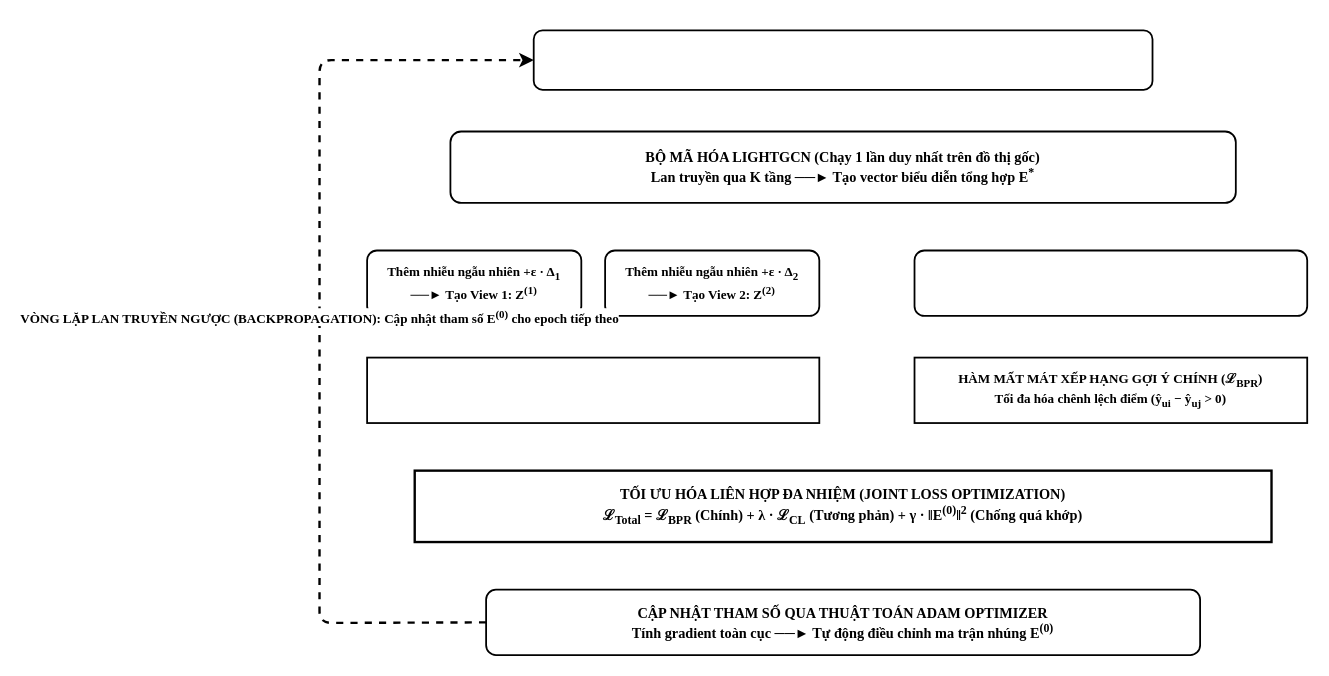
Image size: 1329x676. Some labels were removed from this diagram. Here are the shapes that lost their labels. From the top down, the box of each, then its label:
(532, 29, 1153, 90): ĐỒ THỊ TƯƠNG TÁC GỐC G = (U ∪ I, E) Ma trận nhúng khởi tạo: E (0)
(913, 249, 1308, 316): Dự đoán điểm ưa thích: ŷ ui = (e u * ) T · e i *
(366, 356, 820, 423): HÀM MẤT MÁT TƯƠNG PHẢN (ℒ CL ) InfoNCE: Kéo gần Z (1) , Z (2) & Đẩy xa nút khác
